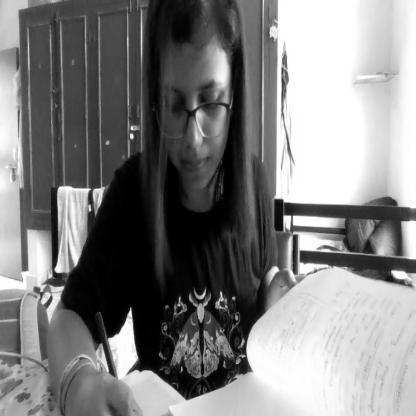Distracted: (150, 0, 240, 194)
